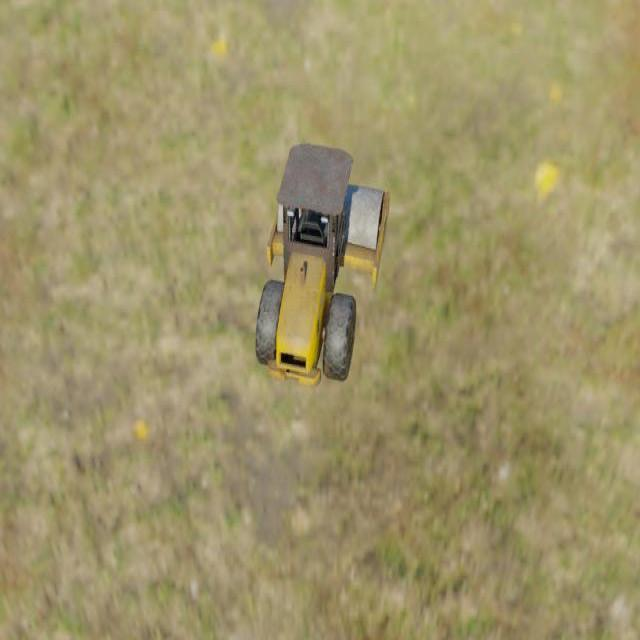Roller: (254, 141, 390, 388)
